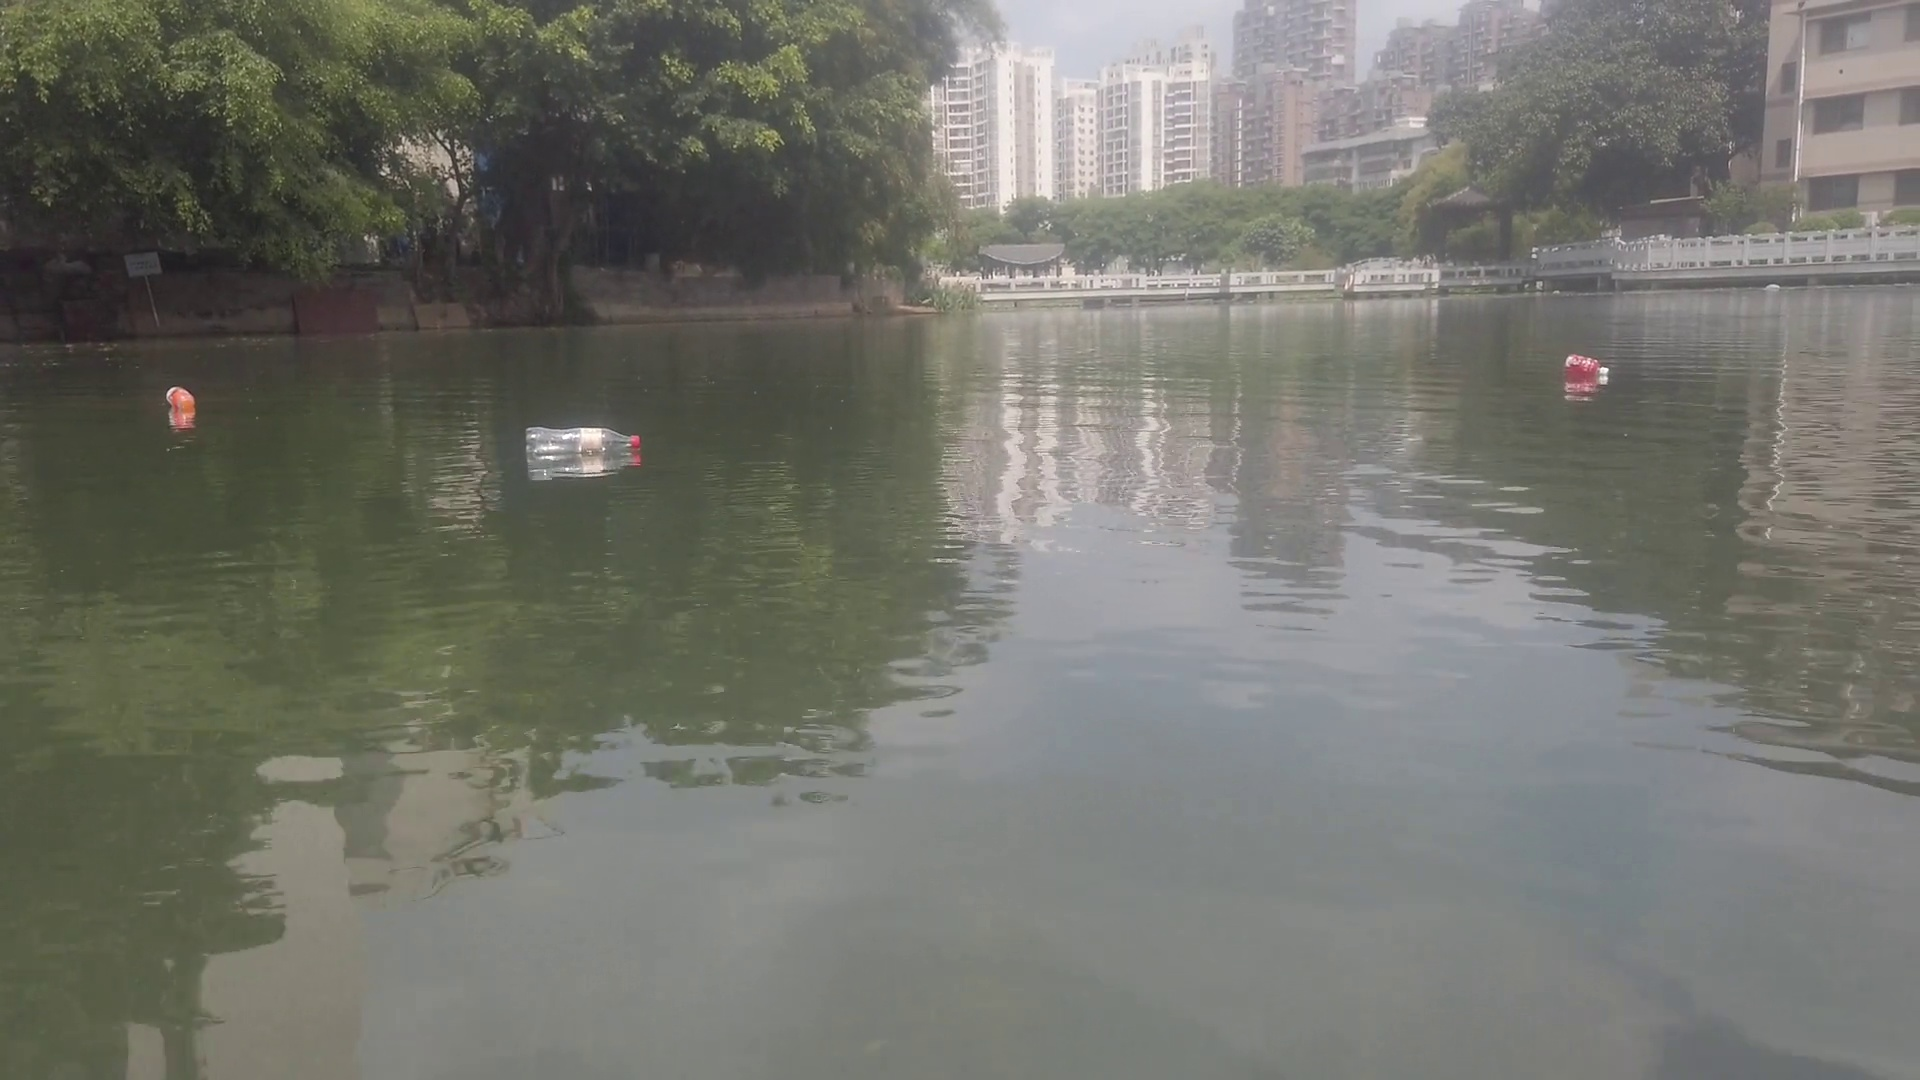bottle: (524, 426, 644, 452), (1563, 348, 1609, 380), (164, 384, 196, 411)
plastic: (1764, 280, 1785, 293)
